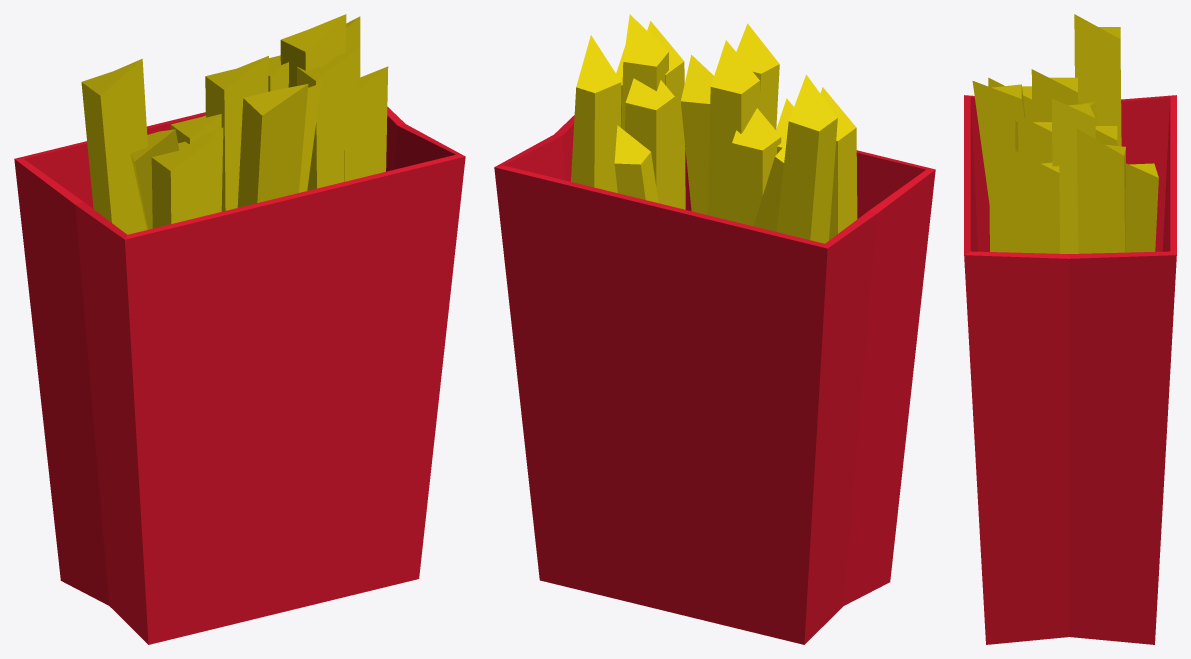
File: frenchfries.gltf
3 views of the same model, side by side, from view 1: azimuth 30°, elevation 25°; view 2: azimuth 150°, elevation 25°; view 3: azimuth 270°, elevation 25° (orthographic). The views are drawn at different scales.
Visible parts, largest first — view 1: Cube, Cube001, Cube015, Cube011, Cube013, Cube003, Cube009, Cube006, Cube014, Cube010, Cube008, Cube007 (+1 smaller); view 2: Cube, Cube001, Cube005, Cube003, Cube002, Cube007, Cube010, Cube013, Cube006, Cube012, Cube015, Cube011 (+1 smaller); view 3: Cube, Cube005, Cube015, Cube009, Cube001, Cube006, Cube012, Cube003, Cube011, Cube002, Cube013.
Boxes of the visible parts, left/top/right/bottom form: Cube: left=14, top=106, right=465, bottom=644; Cube001: left=81, top=58, right=147, bottom=234; Cube015: left=237, top=84, right=308, bottom=207; Cube011: left=297, top=47, right=360, bottom=190; Cube013: left=151, top=137, right=215, bottom=228; Cube003: left=205, top=56, right=268, bottom=211; Cube009: left=344, top=66, right=388, bottom=181; Cube006: left=280, top=14, right=346, bottom=87; Cube014: left=130, top=129, right=179, bottom=229; Cube010: left=299, top=83, right=321, bottom=192; Cube008: left=167, top=127, right=223, bottom=213; Cube007: left=170, top=114, right=221, bottom=143; Cube: left=494, top=115, right=935, bottom=644; Cube001: left=776, top=74, right=837, bottom=243; Cube005: left=571, top=35, right=621, bottom=193; Cube003: left=707, top=40, right=760, bottom=220; Cube002: left=625, top=78, right=675, bottom=207; Cube007: left=730, top=108, right=781, bottom=225; Cube010: left=680, top=55, right=713, bottom=214; Cube013: left=820, top=87, right=857, bottom=240; Cube006: left=621, top=14, right=668, bottom=130; Cube012: left=614, top=125, right=658, bottom=202; Cube015: left=736, top=23, right=779, bottom=129; Cube011: left=647, top=21, right=685, bottom=209; Cube: left=964, top=95, right=1176, bottom=644; Cube005: left=1076, top=128, right=1125, bottom=253; Cube015: left=972, top=81, right=1025, bottom=252; Cube009: left=1013, top=149, right=1059, bottom=253; Cube001: left=1074, top=14, right=1121, bottom=146; Cube006: left=1052, top=98, right=1095, bottom=253; Cube012: left=1125, top=163, right=1158, bottom=252; Cube003: left=1031, top=69, right=1077, bottom=122; Cube011: left=1018, top=115, right=1052, bottom=163; Cube002: left=1095, top=126, right=1117, bottom=145; Cube013: left=988, top=77, right=1031, bottom=251.
Size of the model in its own units: 3.56 by 5.48 by 2.
